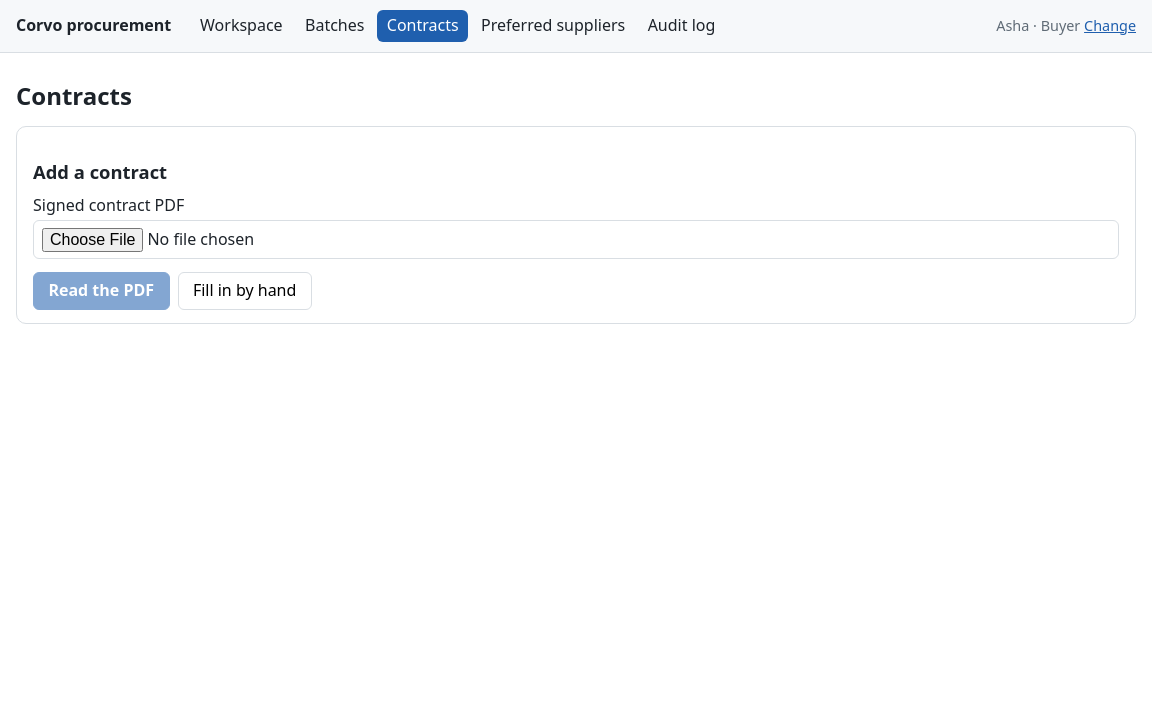
it: keyboard and reloads (S3) › Tab and Shift+Tab stay inside an open dialog
The width and height of the screenshot is (1152, 717).
Click the button "Fill in by hand" at (245, 291), box [178,272,312,310]
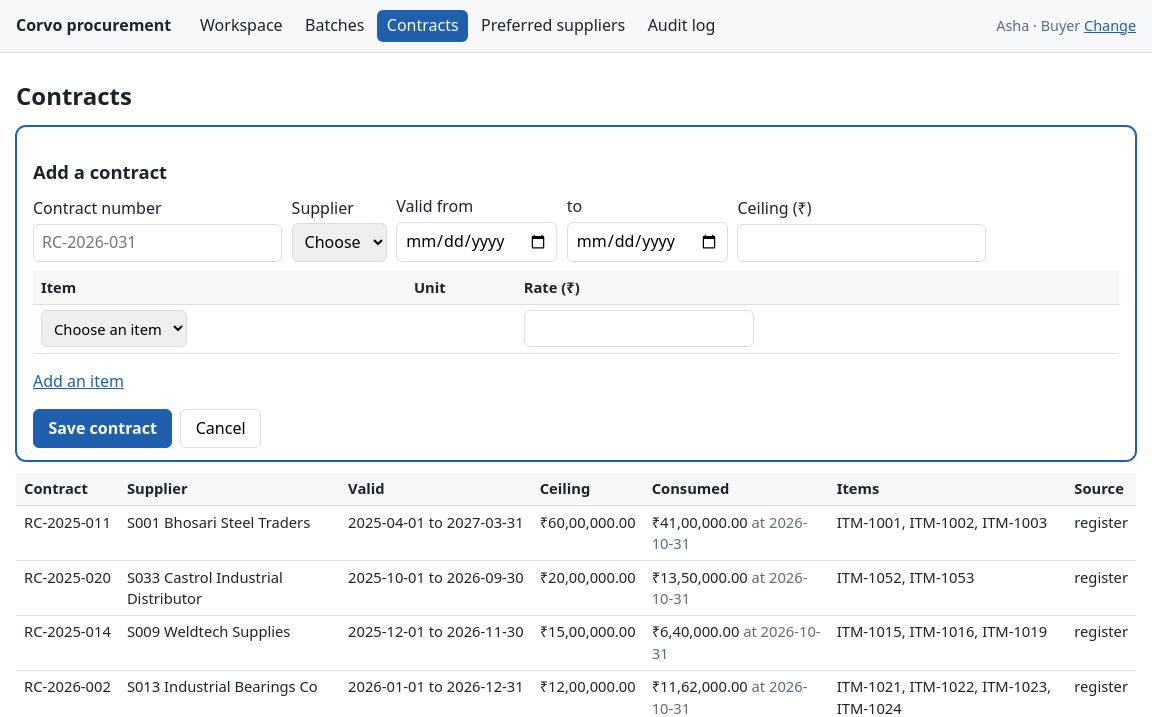
Click the button "Save contract" at (103, 428), box [33,409,172,448]
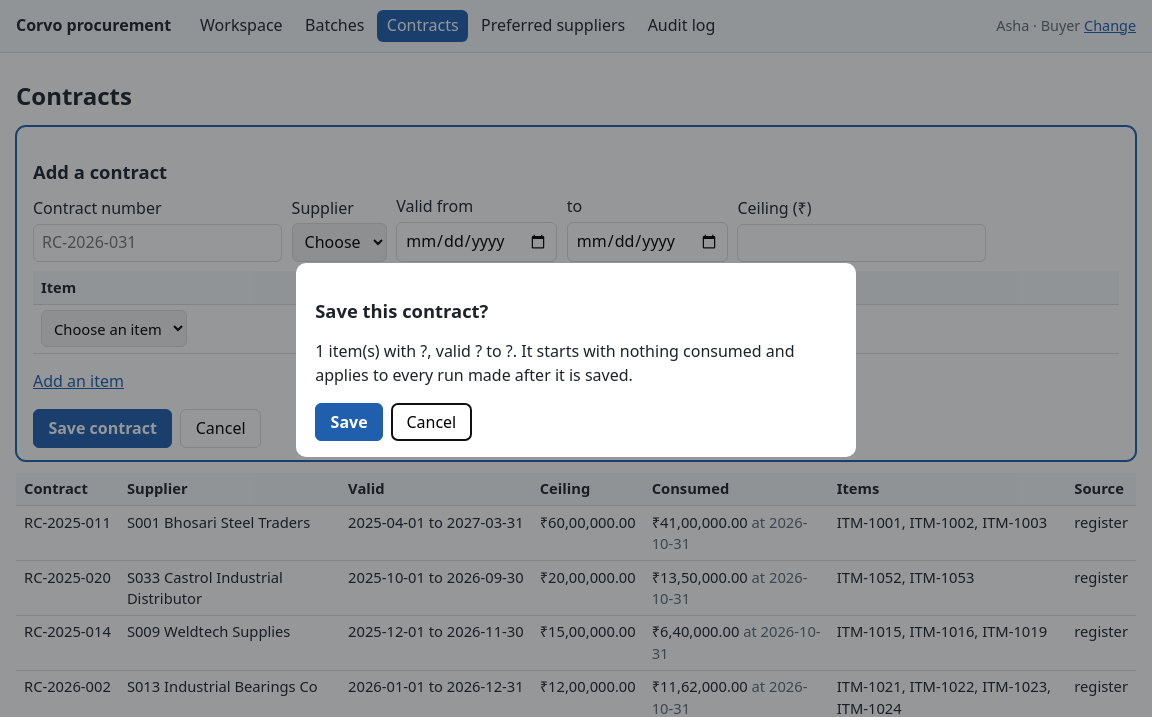
Press Tab
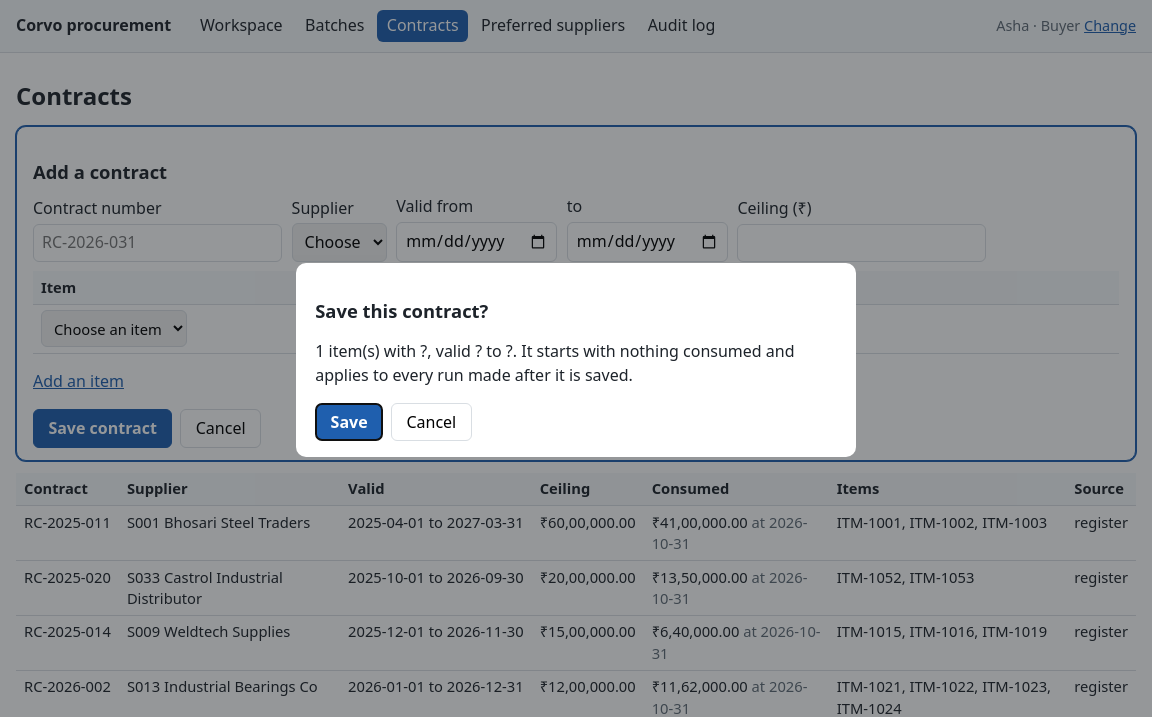
Press Tab
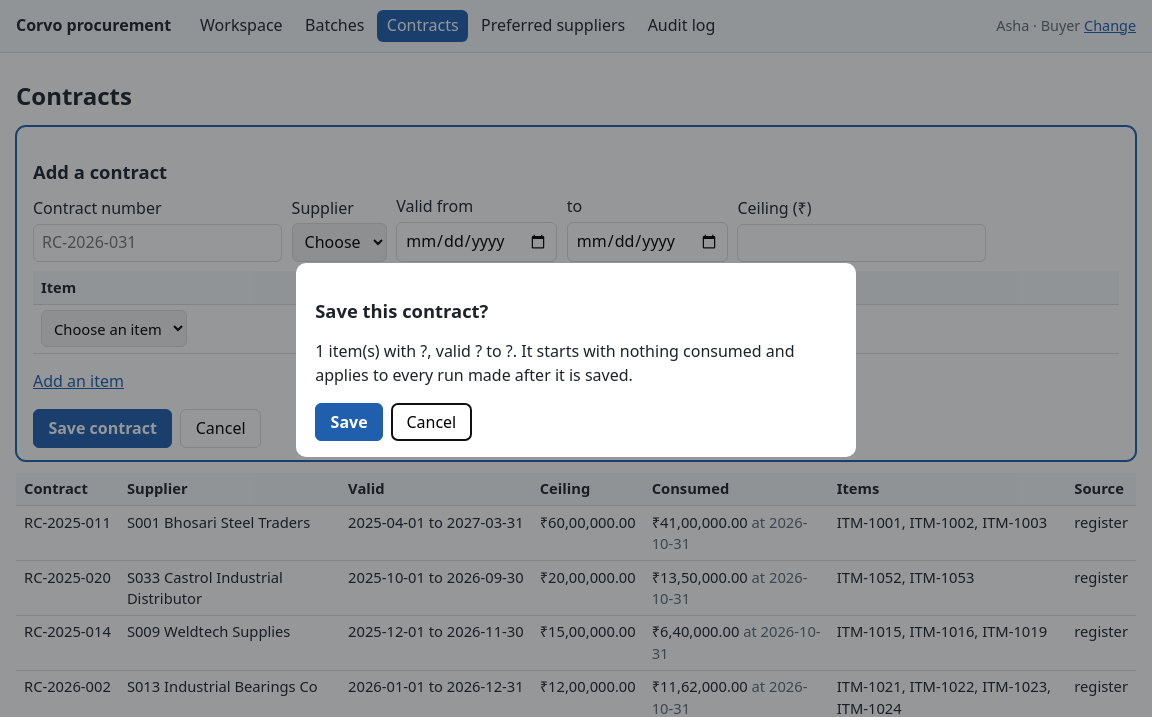
Press Escape
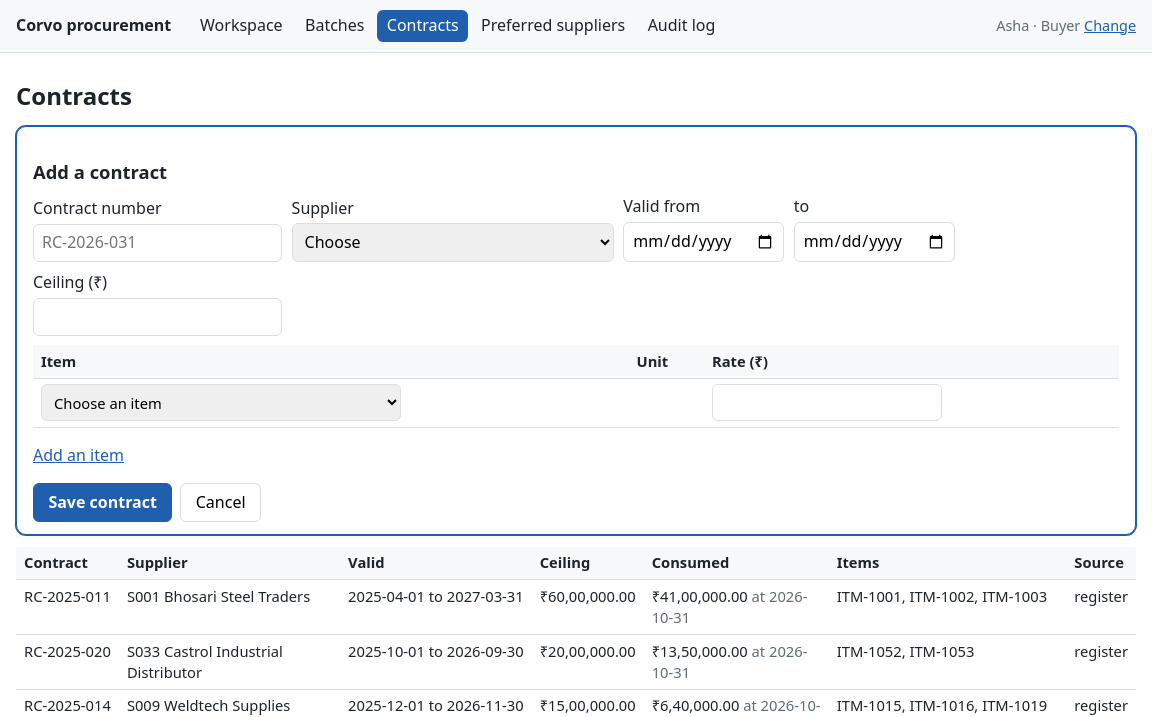
Check: the dialog is gone
